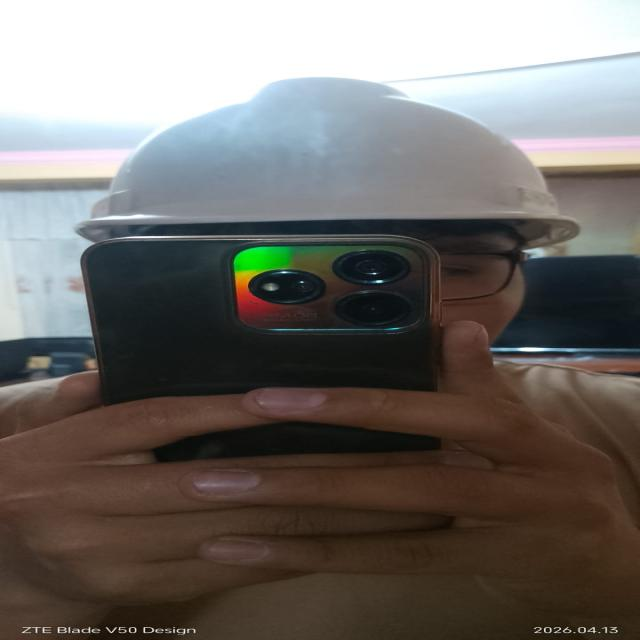casco: (64, 59, 626, 256)
